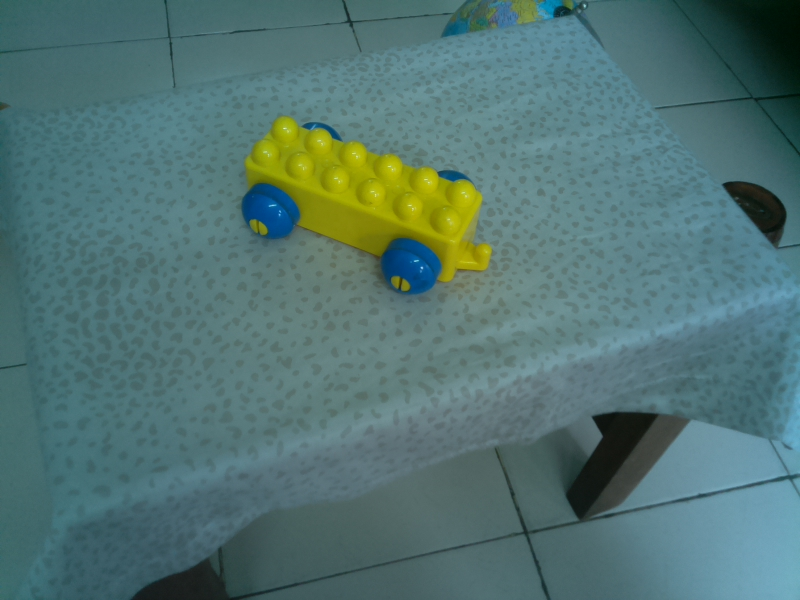toy_Car: (236, 112, 499, 298)
